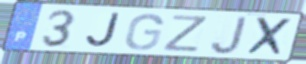3: (40, 9, 78, 49)
G: (122, 12, 165, 52)
J: (209, 15, 249, 56), (84, 12, 122, 50)
X: (244, 16, 295, 58)
Z: (161, 14, 211, 54)
